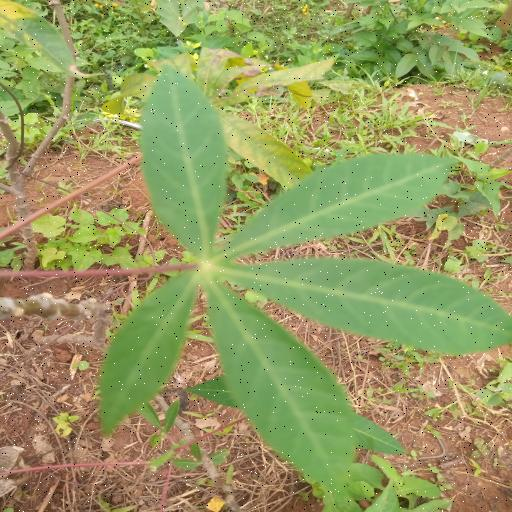Cassava_Healthy: (89, 68, 512, 501)
